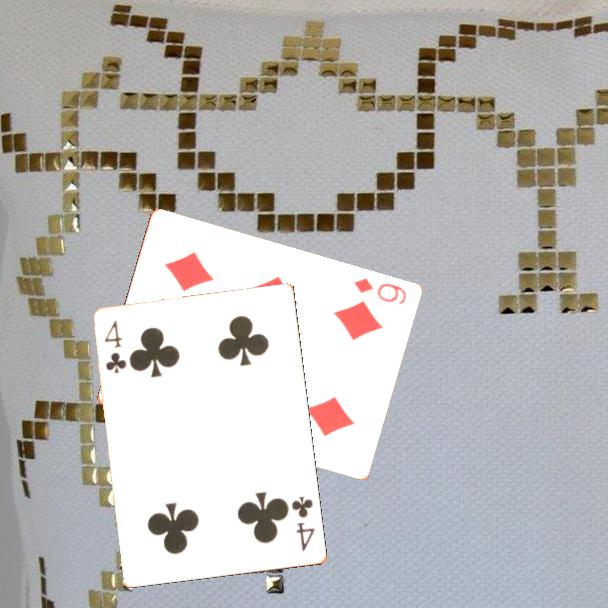c04: (288, 493, 318, 554), (102, 317, 129, 377)
d06: (350, 275, 409, 308)
